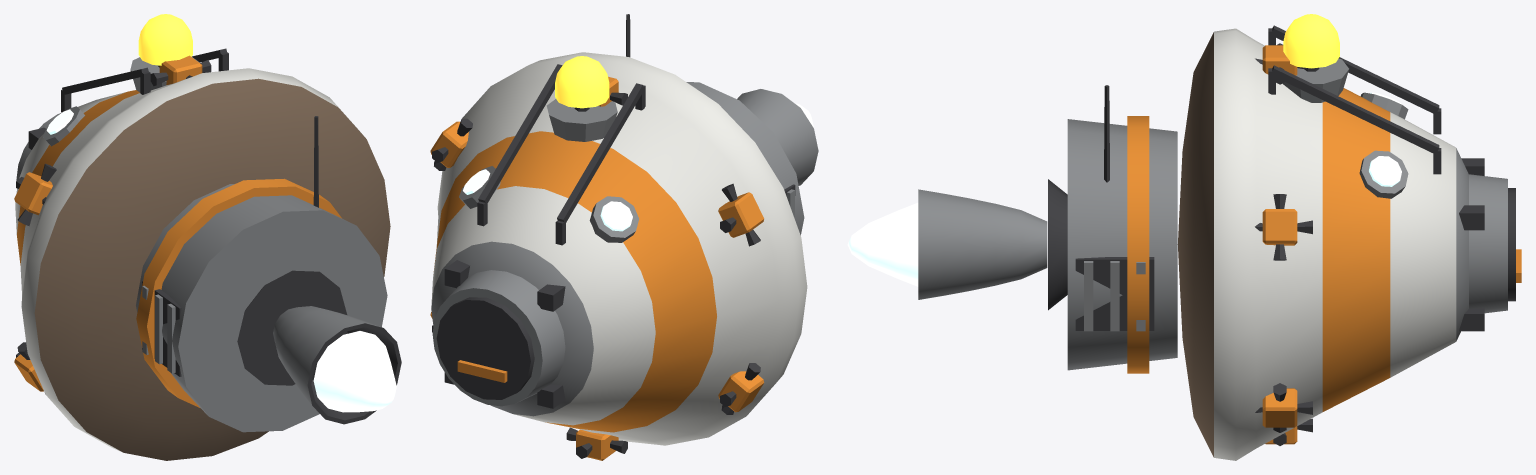
The model's file is escape_pod.glb.
3 renders of one model, left to right at view 1: azimuth 30°, elevation 25°; view 2: azimuth 150°, elevation 25°; view 3: azimuth 270°, elevation 25°, orthographic. The views are drawn at different scales.
Visible parts, largest first — view 1: pod_hull, pod_details, engine_glow, beacon; view 2: pod_hull, pod_details, beacon; view 3: pod_hull, pod_details, engine_glow, beacon.
Part boxes in pixels (bbox=[...]): pod_hull: bbox=[15, 68, 390, 460]; pod_details: bbox=[14, 48, 401, 432]; engine_glow: bbox=[313, 331, 396, 412]; beacon: bbox=[138, 14, 192, 65]; pod_hull: bbox=[431, 52, 807, 445]; pod_details: bbox=[430, 14, 818, 460]; beacon: bbox=[555, 56, 609, 108]; pod_hull: bbox=[1177, 28, 1507, 460]; pod_details: bbox=[918, 25, 1521, 445]; engine_glow: bbox=[847, 202, 918, 286]; beacon: bbox=[1283, 14, 1339, 68].
Size of the model in its own units: 2.76 by 2.98 by 4.29.
